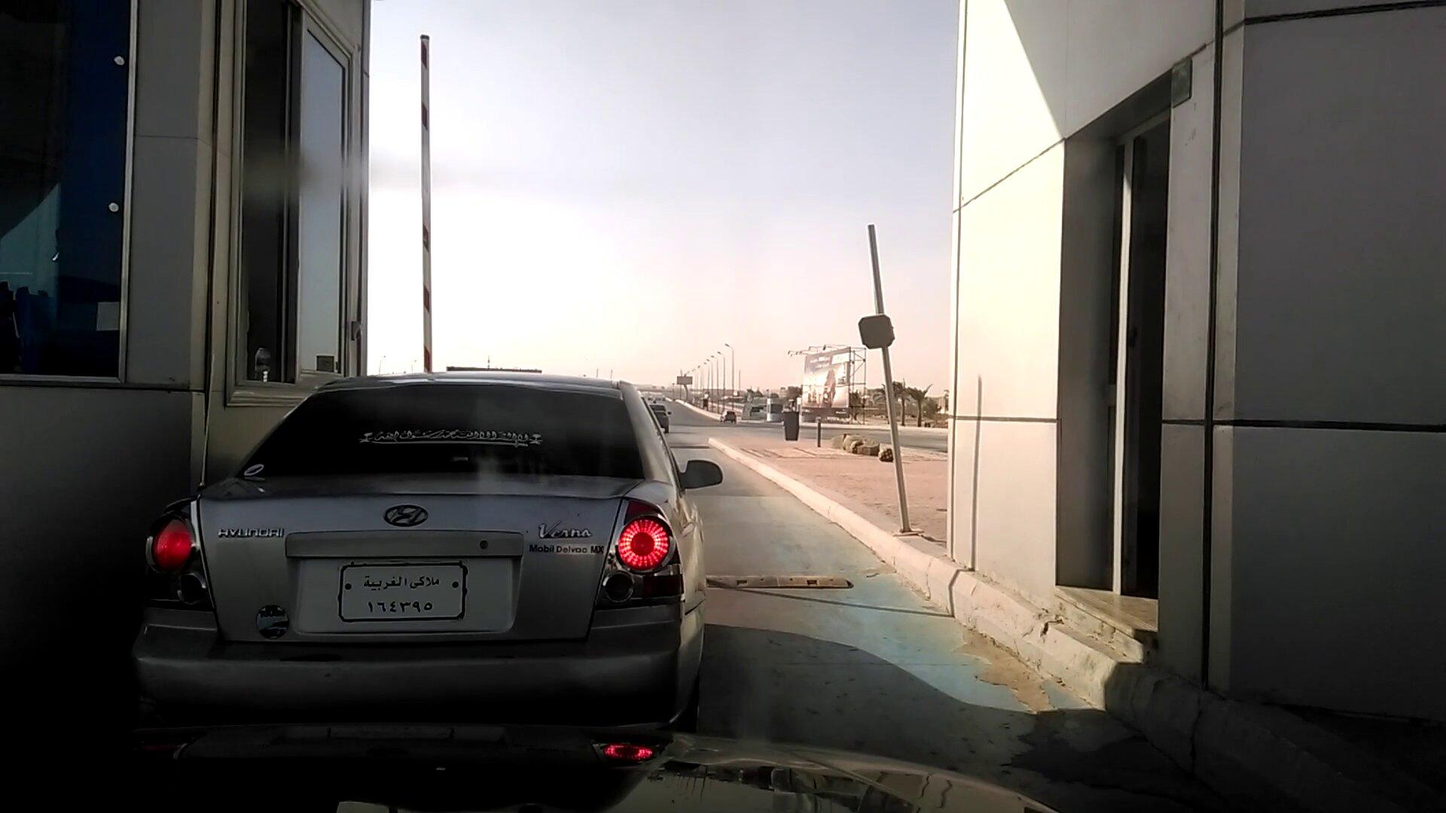Bump: (691, 570, 853, 595)
